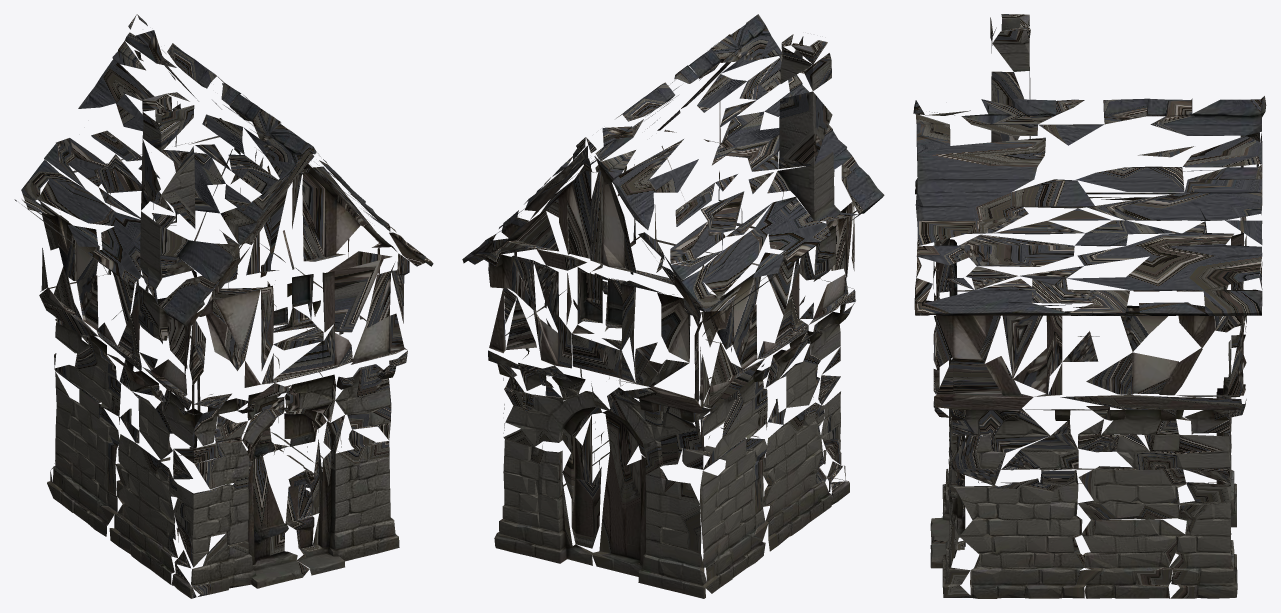
File: bld_house_npc_a_a_LOD1.glb
3 views of the same model, side by side, from view 1: azimuth 30°, elevation 25°; view 2: azimuth 150°, elevation 25°; view 3: azimuth 270°, elevation 25° (orthographic).
Visible parts, largest first — view 1: geometry_0; view 2: geometry_0; view 3: geometry_0.
Part boxes in pixels (x1,y1,x2,y2): geometry_0: [14, 14, 433, 598]; geometry_0: [462, 14, 884, 598]; geometry_0: [913, 14, 1266, 598].
Bounding box in the file's own units: 3.06 × 5.5 × 3.68.
Materials: 1 (1 with a texture image).
